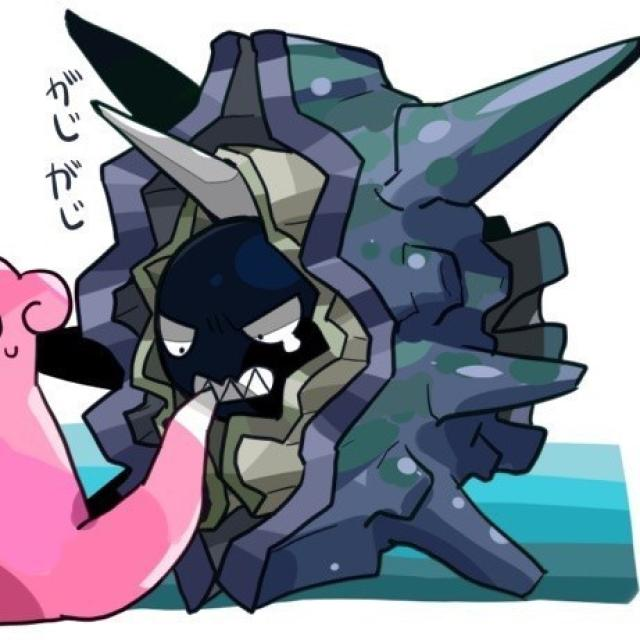Cloyster: (90, 28, 571, 576)
